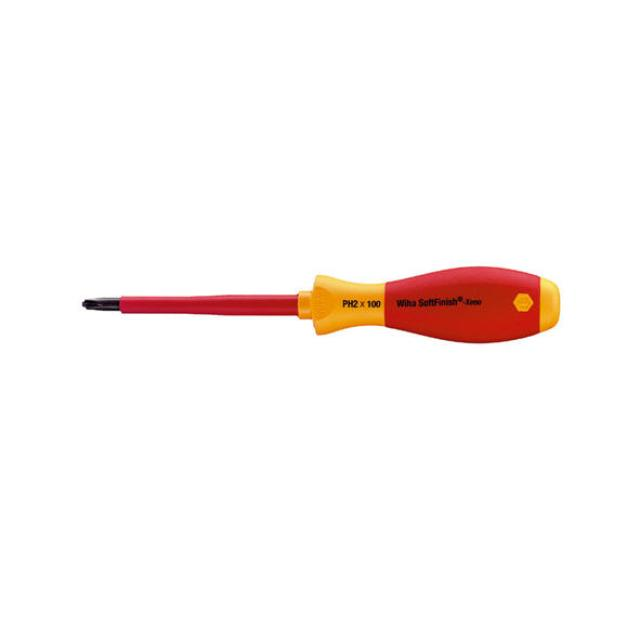screw driver: (60, 237, 620, 394)
